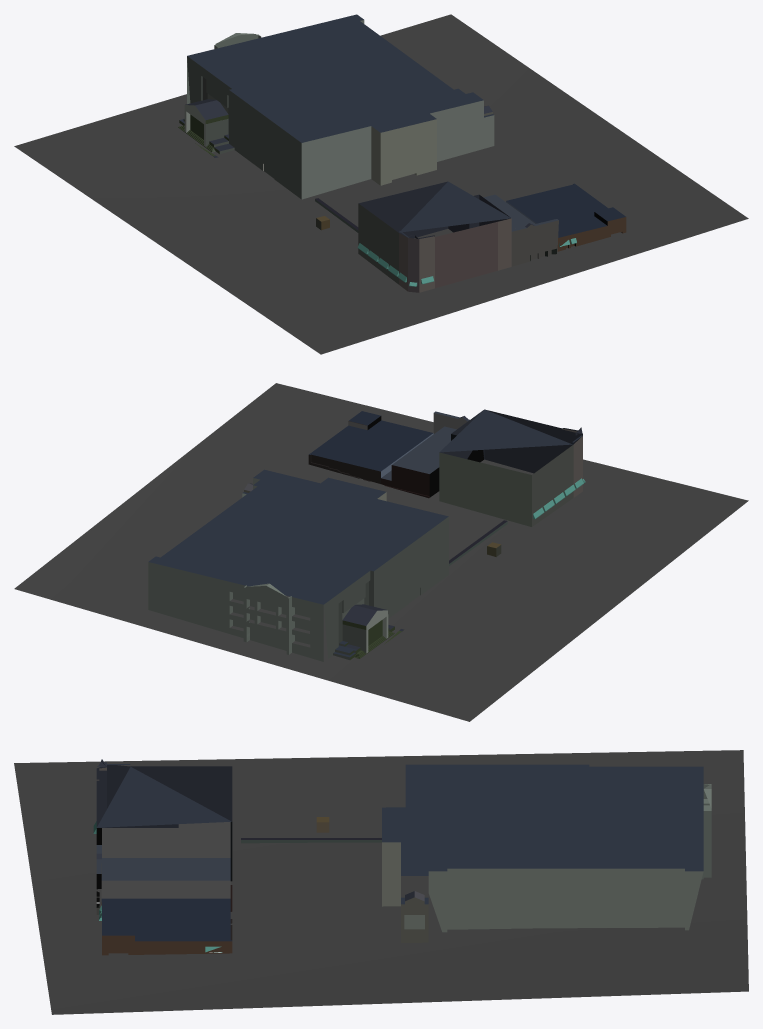
Rendered from 600-market-street.glb.
The picture shows the model from 3 angles, top to bottom: view 1: azimuth 30°, elevation 25°; view 2: azimuth 150°, elevation 25°; view 3: azimuth 270°, elevation 25°; orthographic projection. The views are drawn at different scales.
Visible parts, largest first — view 1: LOD0; view 2: LOD0; view 3: LOD0.
Part boxes in pixels (x1=…): LOD0: x1=14, y1=14, x2=748, y2=354; LOD0: x1=14, y1=383, x2=748, y2=721; LOD0: x1=14, y1=750, x2=748, y2=1014.
Size of what is drawn, in the model's own units: 138 by 20.92 by 151.
Materials: 2 (2 with a texture image).
